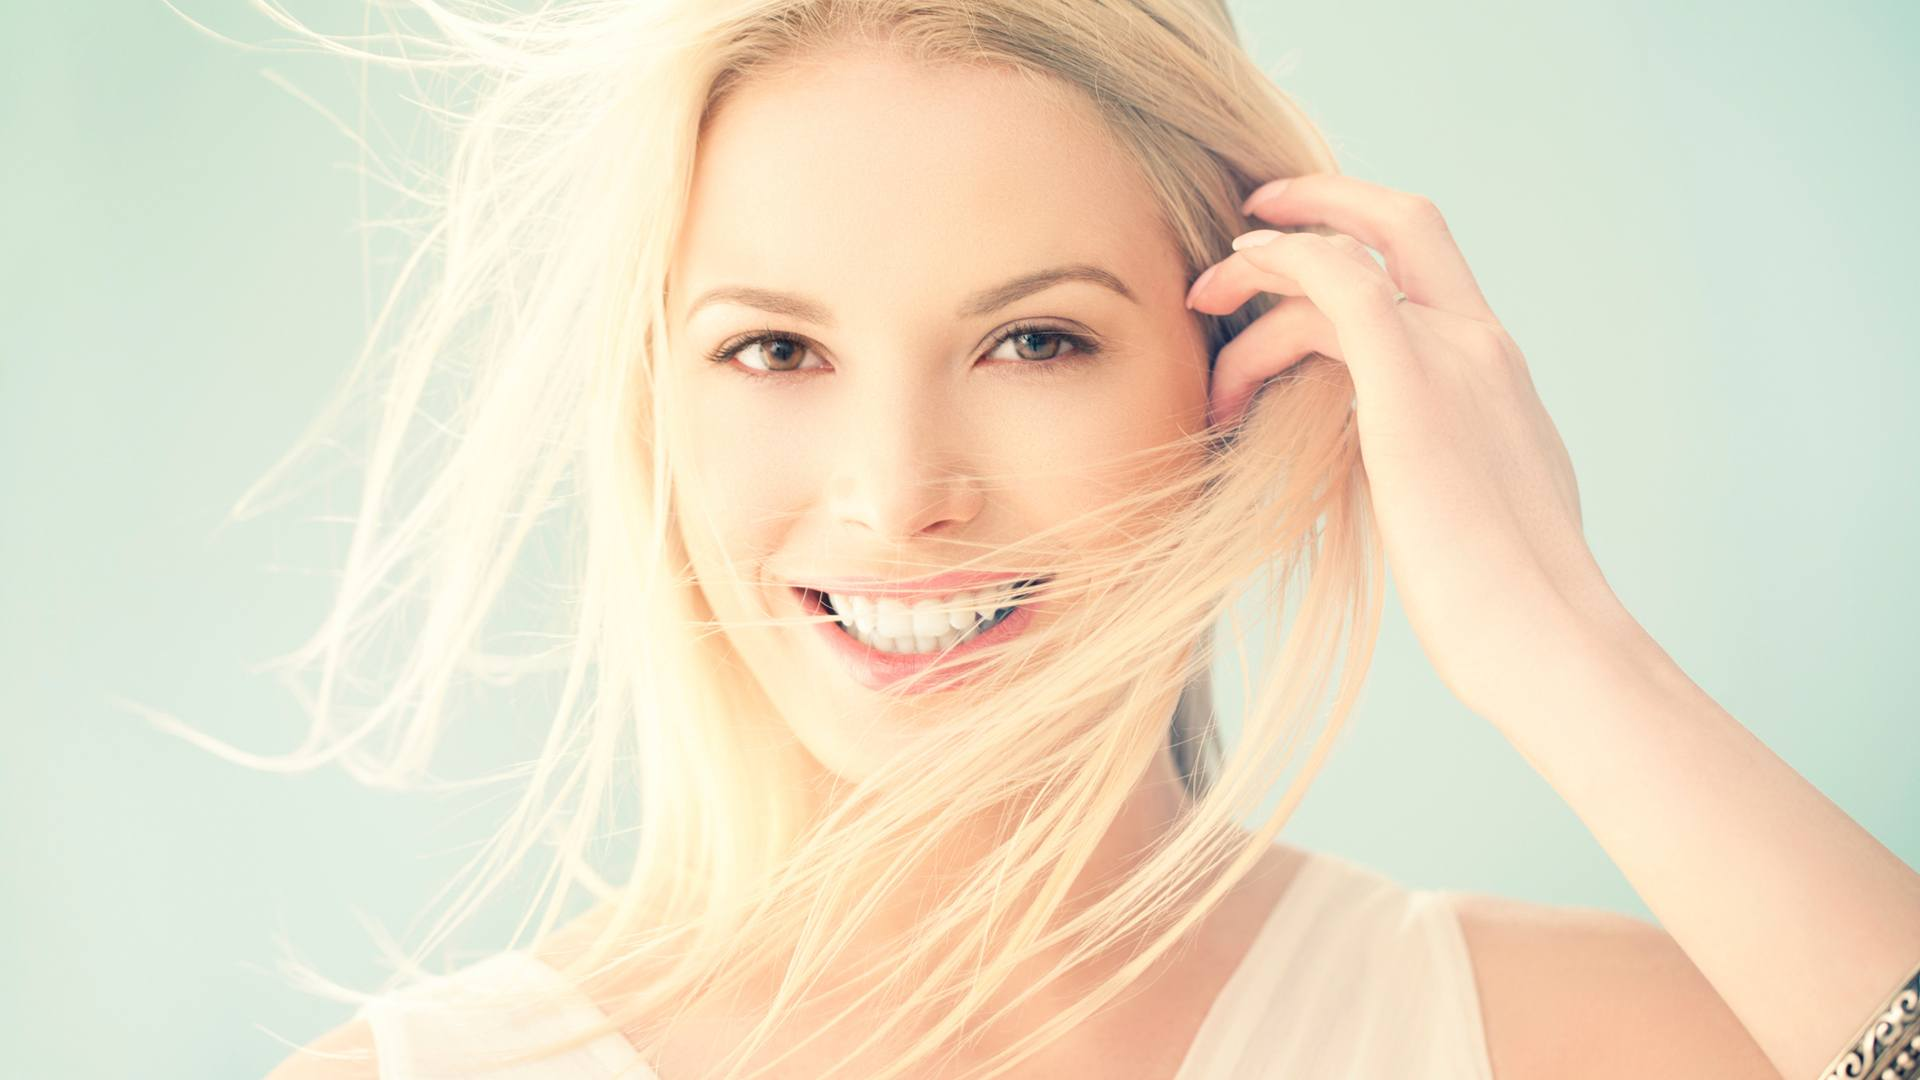Without Helmet: (550, 1, 1398, 833)
